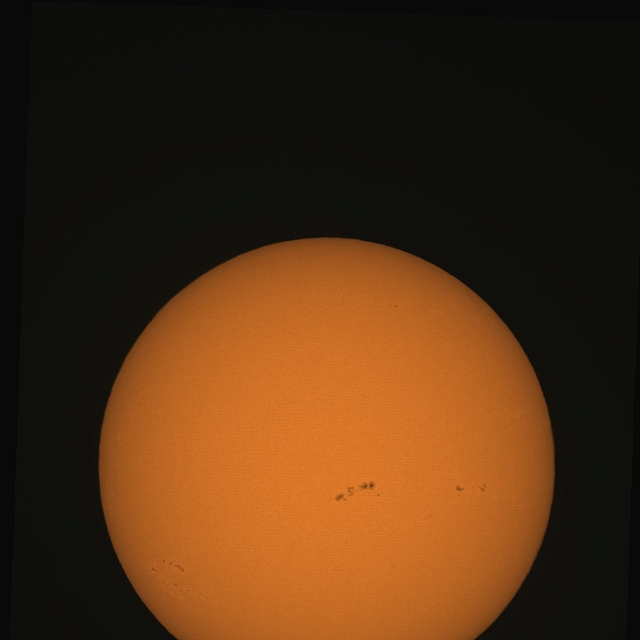sunspot: (334, 481, 379, 503), (163, 559, 186, 572), (478, 483, 487, 497), (454, 484, 464, 494), (177, 564, 185, 572), (151, 566, 157, 572), (393, 304, 399, 309), (173, 583, 178, 588)
